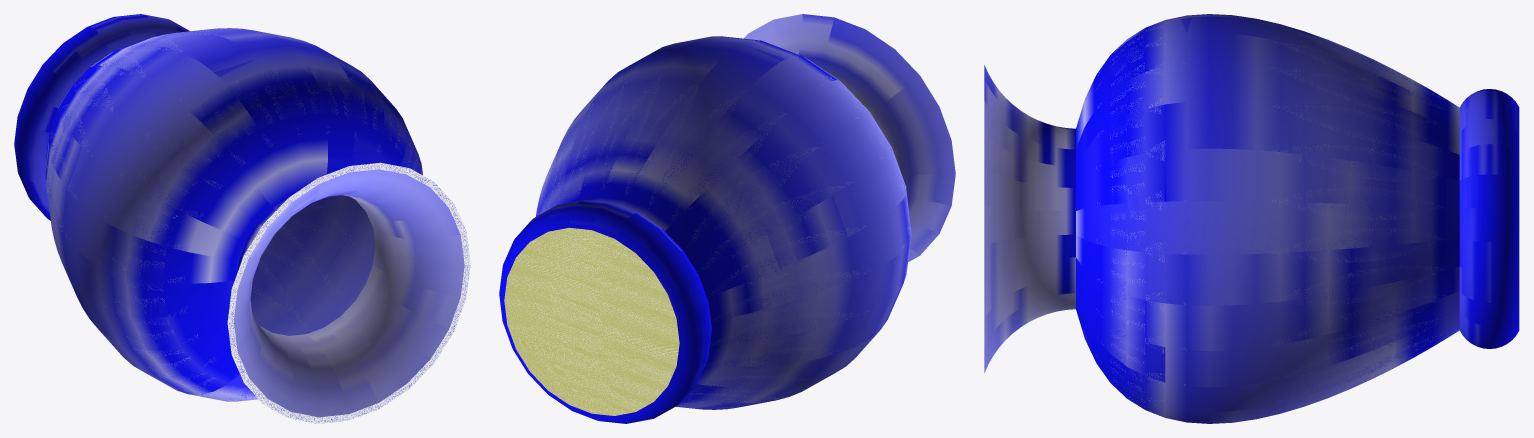
The model's file is model_scale.obj.
3 views of the same model, side by side, from view 1: azimuth 30°, elevation 25°; view 2: azimuth 150°, elevation 25°; view 3: azimuth 270°, elevation 25° (orthographic). The views are drawn at different scales.
Parts seen in each view (by area): view 1: mesh1_mesh1-geometry; view 2: mesh1_mesh1-geometry; view 3: mesh1_mesh1-geometry.
Boxes of the visible parts, x1,y1,x2,y2 form: mesh1_mesh1-geometry: (14,14,470,423); mesh1_mesh1-geometry: (499,14,955,423); mesh1_mesh1-geometry: (984,14,1519,423).
Bounding box in the file's own units: 0.0769 × 0.0769 × 0.1.
6 materials, 1 textured.
